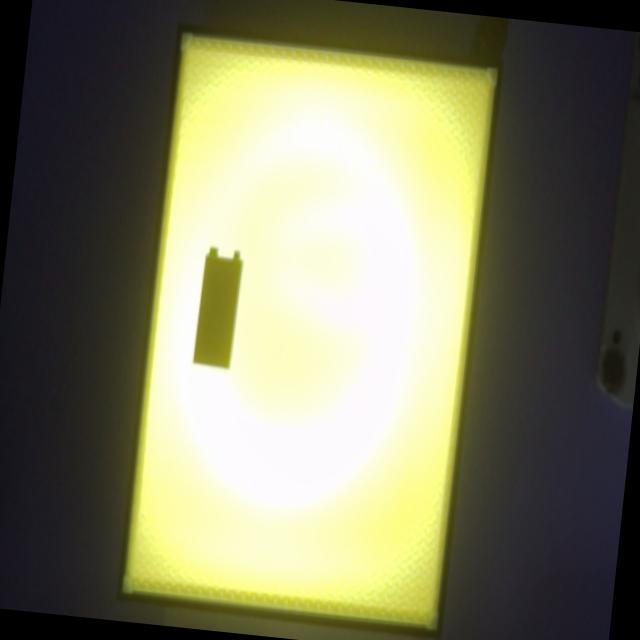bateria: (193, 248, 242, 370)
mesa: (116, 23, 504, 638)
